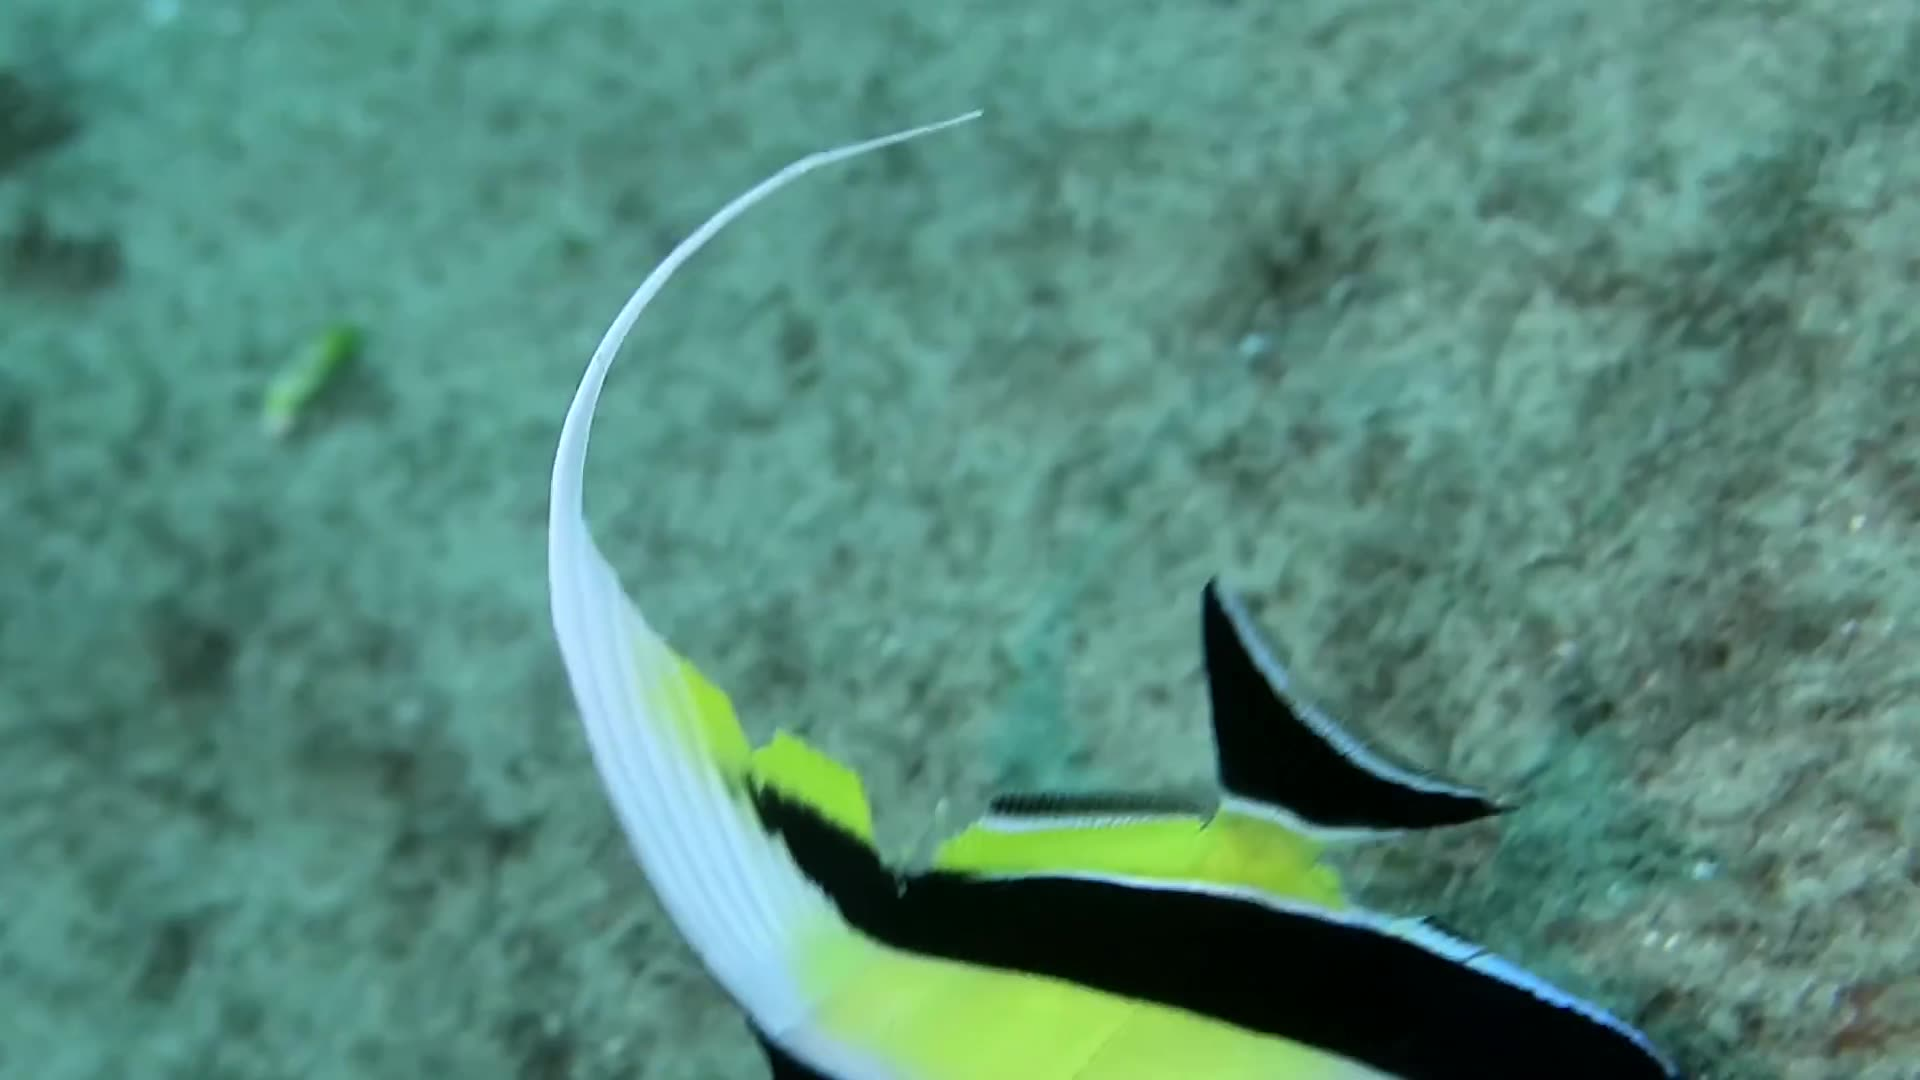Zanclus cornutus: (585, 647, 1677, 1080)
